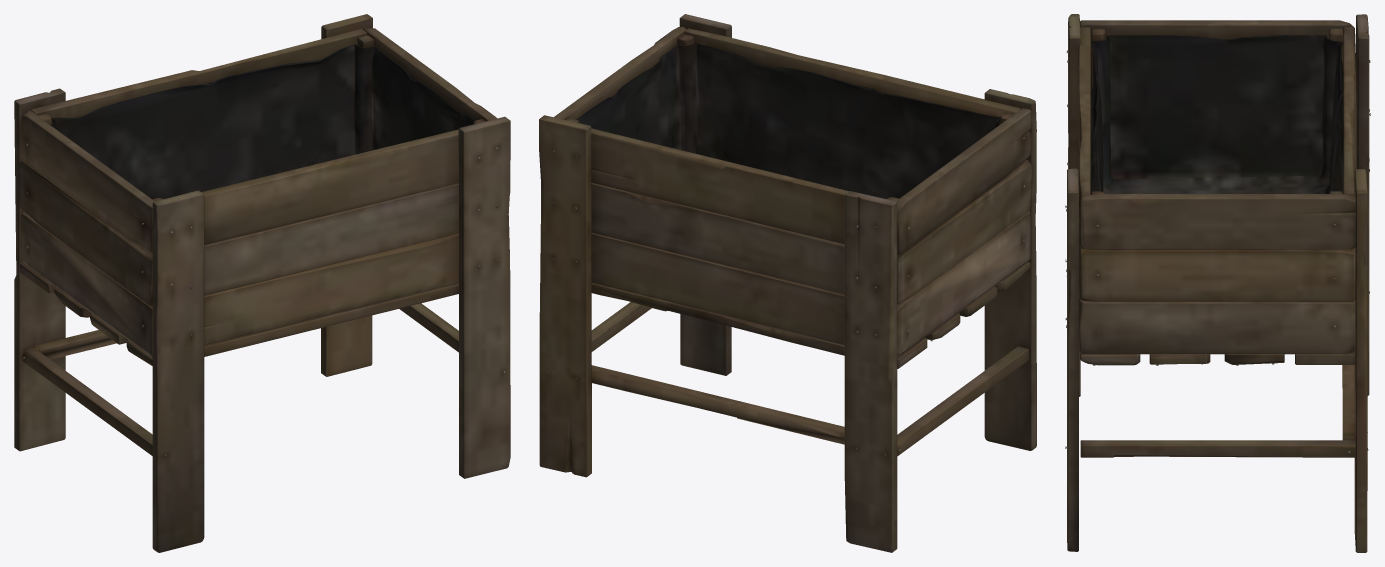
The model's file is planter_box_03_lod1.glb.
3 views of the same model, side by side, from view 1: azimuth 30°, elevation 25°; view 2: azimuth 150°, elevation 25°; view 3: azimuth 270°, elevation 25° (orthographic). The views are drawn at different scales.
Visible parts, largest first — view 1: planter_box_03; view 2: planter_box_03; view 3: planter_box_03.
Boxes of the visible parts, left/top/right/bottom form: planter_box_03: left=14, top=14, right=510, bottom=552; planter_box_03: left=539, top=14, right=1036, bottom=552; planter_box_03: left=1065, top=14, right=1370, bottom=552.
Size of the model in its own units: 0.9143 by 0.8552 by 0.6556.
Materials: 1 (1 with a texture image).
